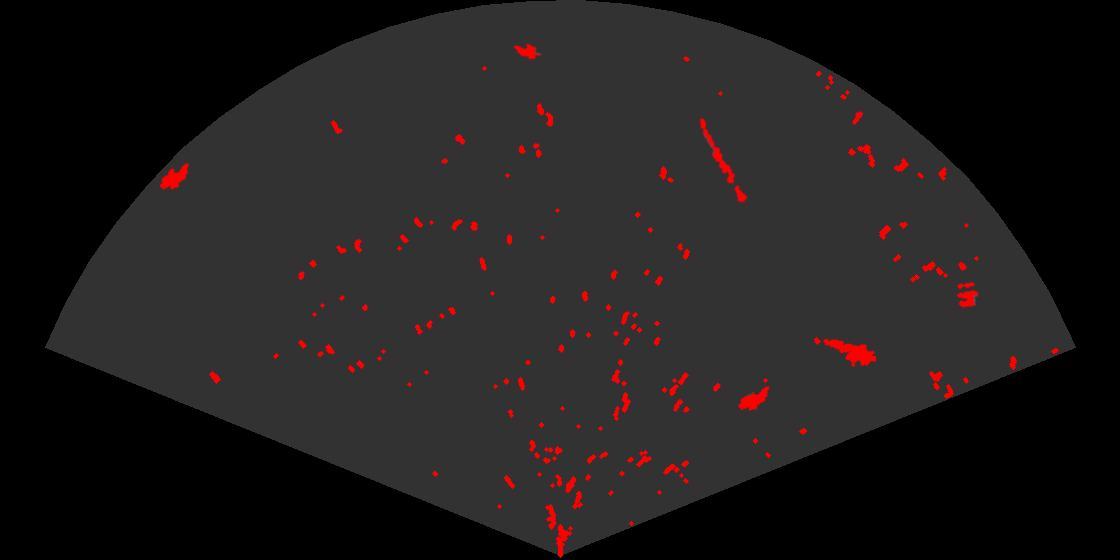AUV: (158, 161, 191, 191), (736, 384, 771, 412), (512, 42, 543, 61)
ball: (955, 281, 980, 309)
chain: (698, 116, 752, 212)
frogman: (821, 337, 876, 369)
